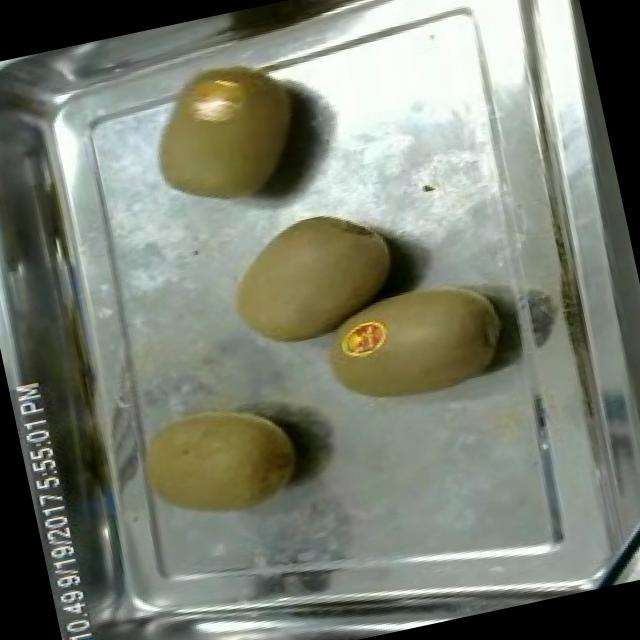Fruit: (305, 258, 522, 426), (210, 194, 412, 362), (133, 51, 320, 222), (128, 383, 318, 539)
